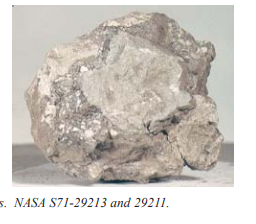Breccia: (21, 10, 229, 183), (38, 66, 159, 182), (113, 43, 205, 160)
